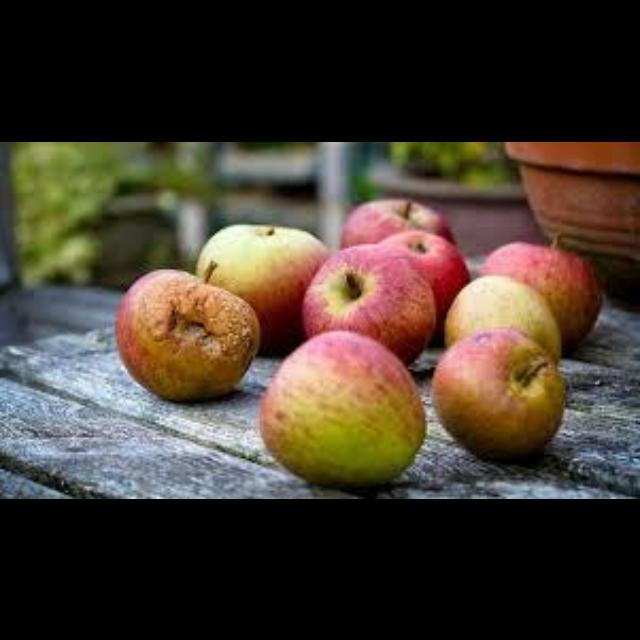apple: (262, 330, 425, 485), (115, 269, 259, 398), (432, 328, 563, 460), (198, 224, 327, 349), (302, 243, 434, 362), (481, 241, 602, 347), (444, 275, 559, 360), (378, 230, 468, 332), (340, 196, 453, 245)
rotten: (133, 273, 257, 375)
